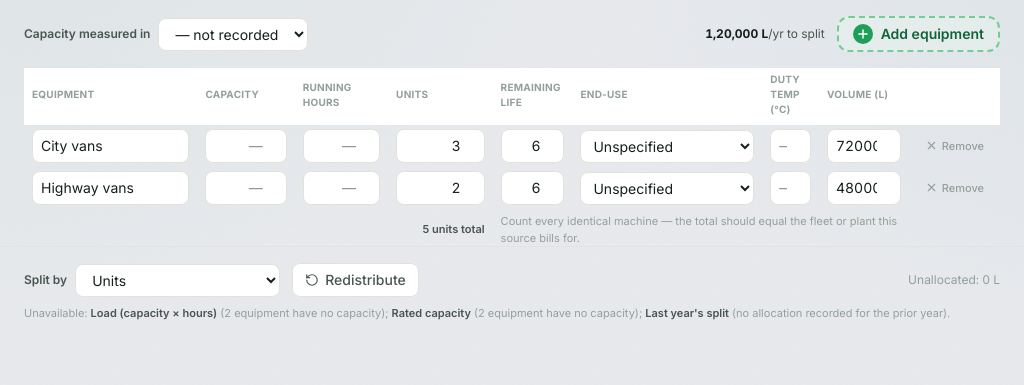
Scenario: EquipmentSection › announces a clamped overshoot through an alert (invariant 3)
Step 1. Replace the text in the 1st number field named "volume" with "500000" → coordinates (864, 146), box x1=827 y1=129 x2=901 y2=163
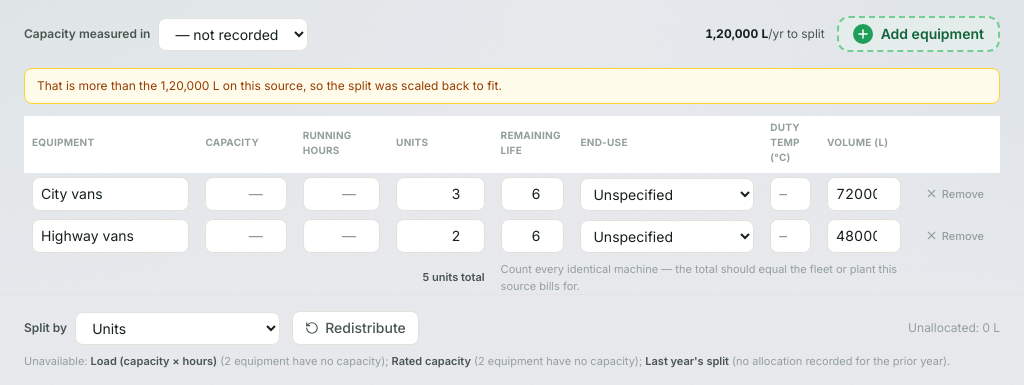
Check: the message shows "scaled back", box x1=37 y1=78 x2=502 y2=93
